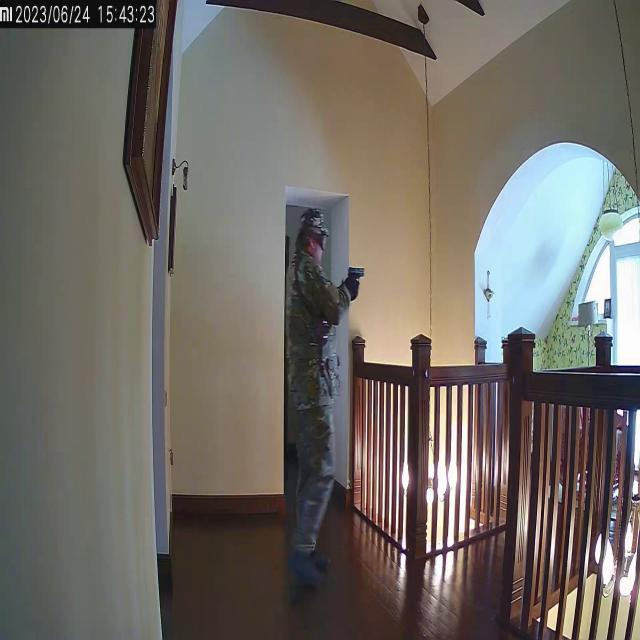gun: (286, 208, 371, 592), (347, 263, 367, 291)
